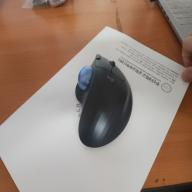mouse: (74, 52, 134, 149)
